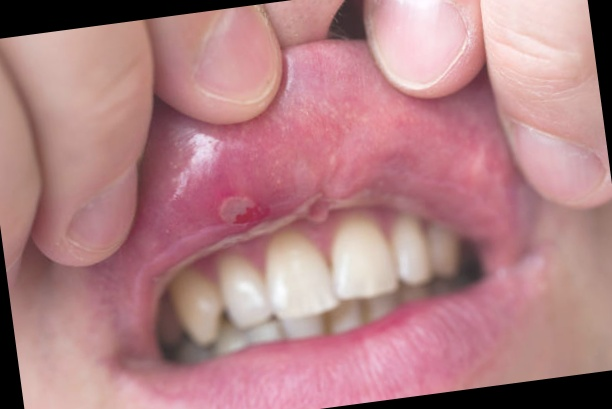Ulcer: (213, 188, 268, 233)
